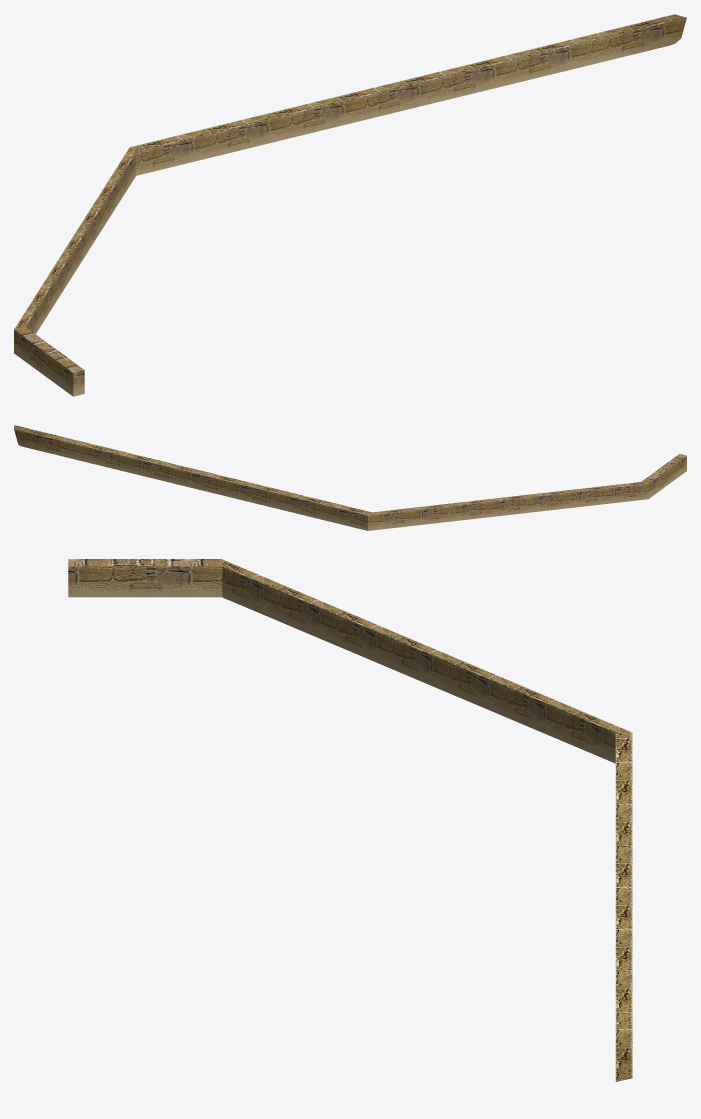
Rendered from Mission8_VillageWall03.glb.
3 views of the same model, one above another, from view 1: azimuth 30°, elevation 25°; view 2: azimuth 150°, elevation 25°; view 3: azimuth 270°, elevation 25° (orthographic). The views are drawn at different scales.
Parts seen in each view (by area): view 1: MISSION8_VILLAGEWALL03; view 2: MISSION8_VILLAGEWALL03; view 3: MISSION8_VILLAGEWALL03.
Part boxes in pixels (box(x1,y1,x2,y2)): MISSION8_VILLAGEWALL03: box(14, 14, 686, 396); MISSION8_VILLAGEWALL03: box(14, 425, 686, 530); MISSION8_VILLAGEWALL03: box(68, 559, 632, 1081).
Bounding box in the file's own units: 36.16 × 1 × 16.5.
Materials: 2 (2 with a texture image).
